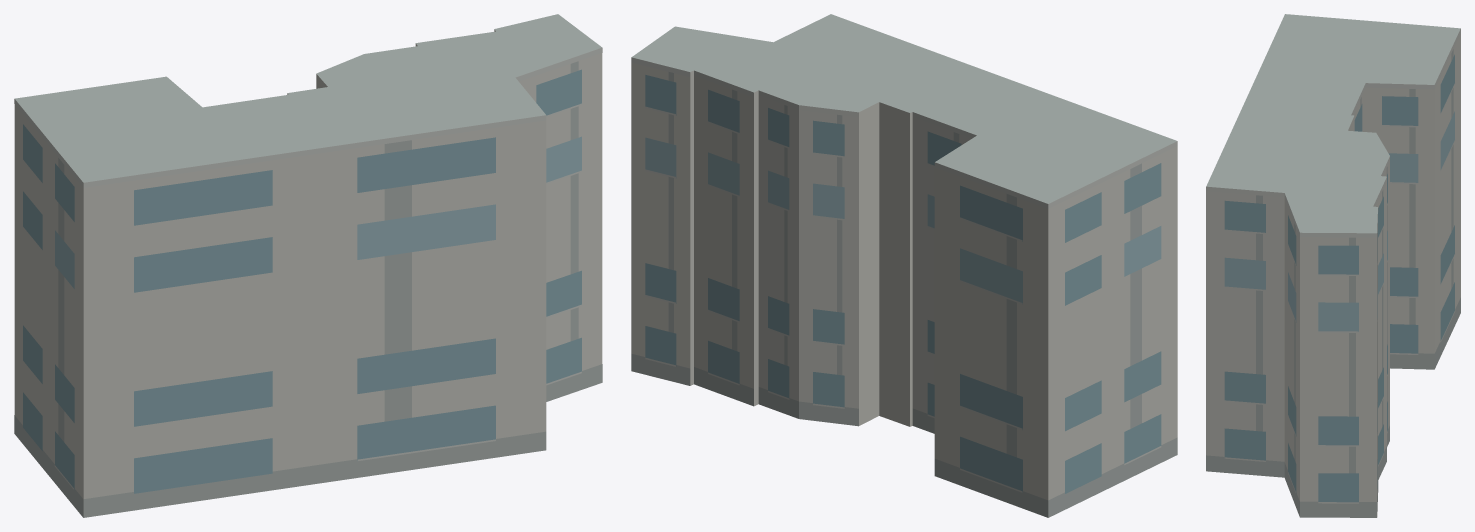
The model's file is survey-upis-32640605.glb.
The picture shows the model from 3 angles, left to right: view 1: azimuth 30°, elevation 25°; view 2: azimuth 150°, elevation 25°; view 3: azimuth 270°, elevation 25°; orthographic projection. The views are drawn at different scales.
Visible parts, largest first — view 1: survey-upis-32640605.tmp; view 2: survey-upis-32640605.tmp; view 3: survey-upis-32640605.tmp.
Part boxes in pixels (<box>): survey-upis-32640605.tmp: <box>14,14,602,517</box>; survey-upis-32640605.tmp: <box>631,14,1177,517</box>; survey-upis-32640605.tmp: <box>1206,14,1460,517</box>.
Bounding box in the file's own units: 25.2 × 15.25 × 12.38.
